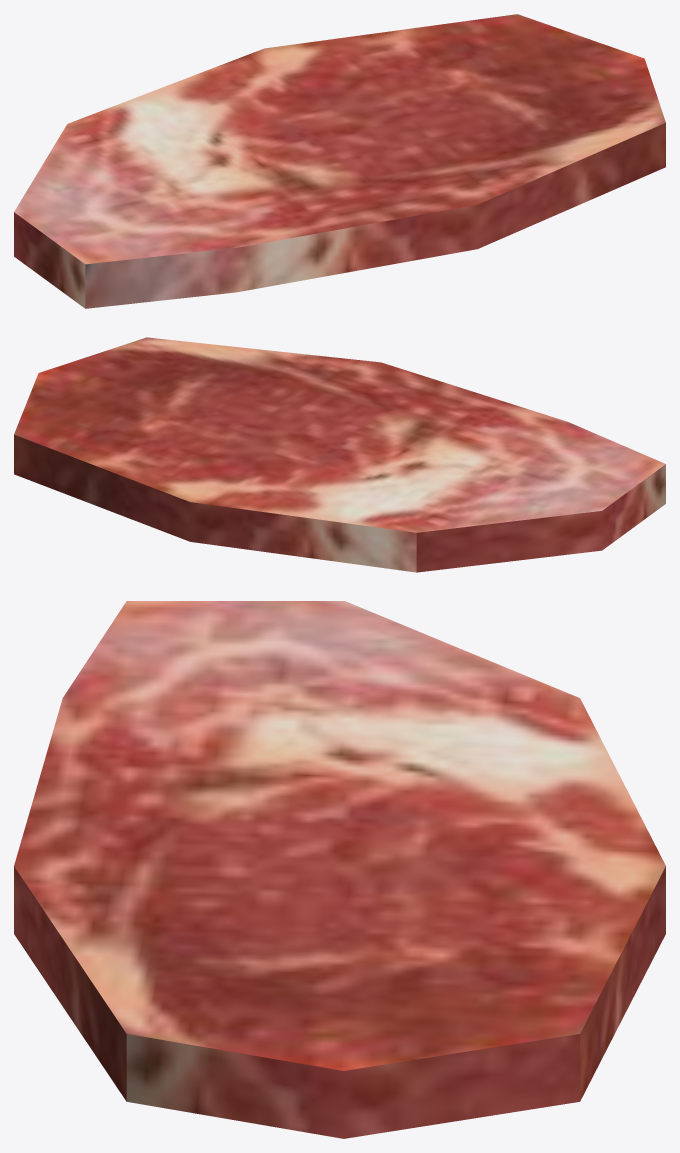
The model's file is Raw_meat_03.glb.
3 views of the same model, one above another, from view 1: azimuth 30°, elevation 25°; view 2: azimuth 150°, elevation 25°; view 3: azimuth 270°, elevation 25° (orthographic). The views are drawn at different scales.
Parts seen in each view (by area): view 1: Raw_meat_03; view 2: Raw_meat_03; view 3: Raw_meat_03.
Part boxes in pixels (x1,y1,x2,y2): Raw_meat_03: [14, 14, 665, 308]; Raw_meat_03: [14, 337, 665, 572]; Raw_meat_03: [14, 601, 665, 1138].
Bounding box in the file's own units: 0.3203 × 0.0216 × 0.1878.
Materials: 1 (1 with a texture image).
